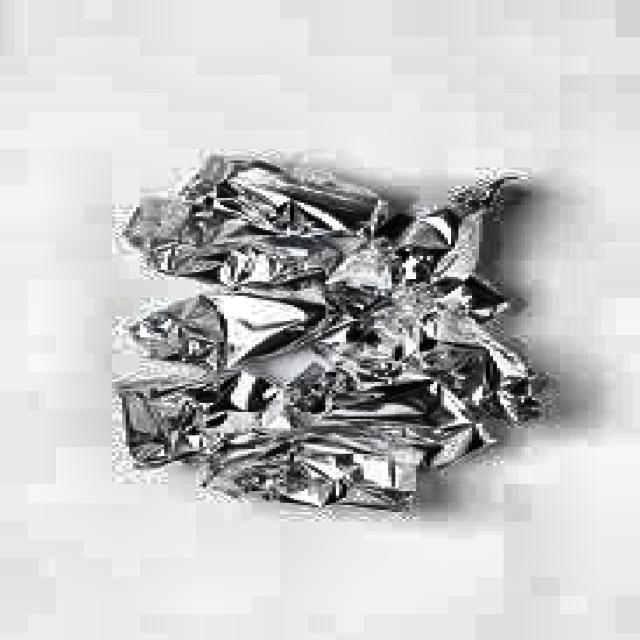Foil: (107, 155, 558, 528)
